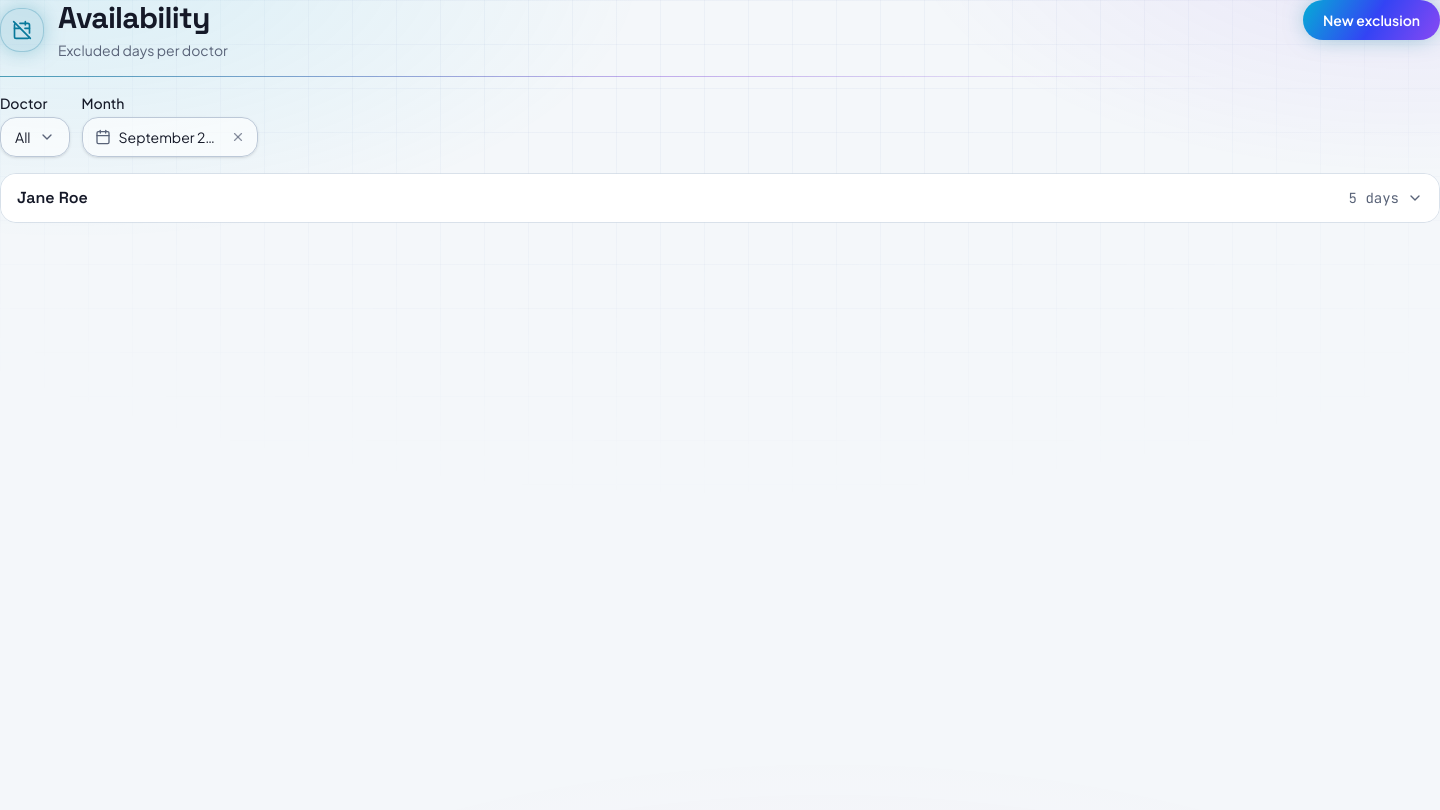
AvailabilityPage › keeps the dialog open with an inline error when the split fails
Click the button "Jane Roe 5 days".
click(52, 198)  # box x1=1 y1=174 x2=1439 y2=222
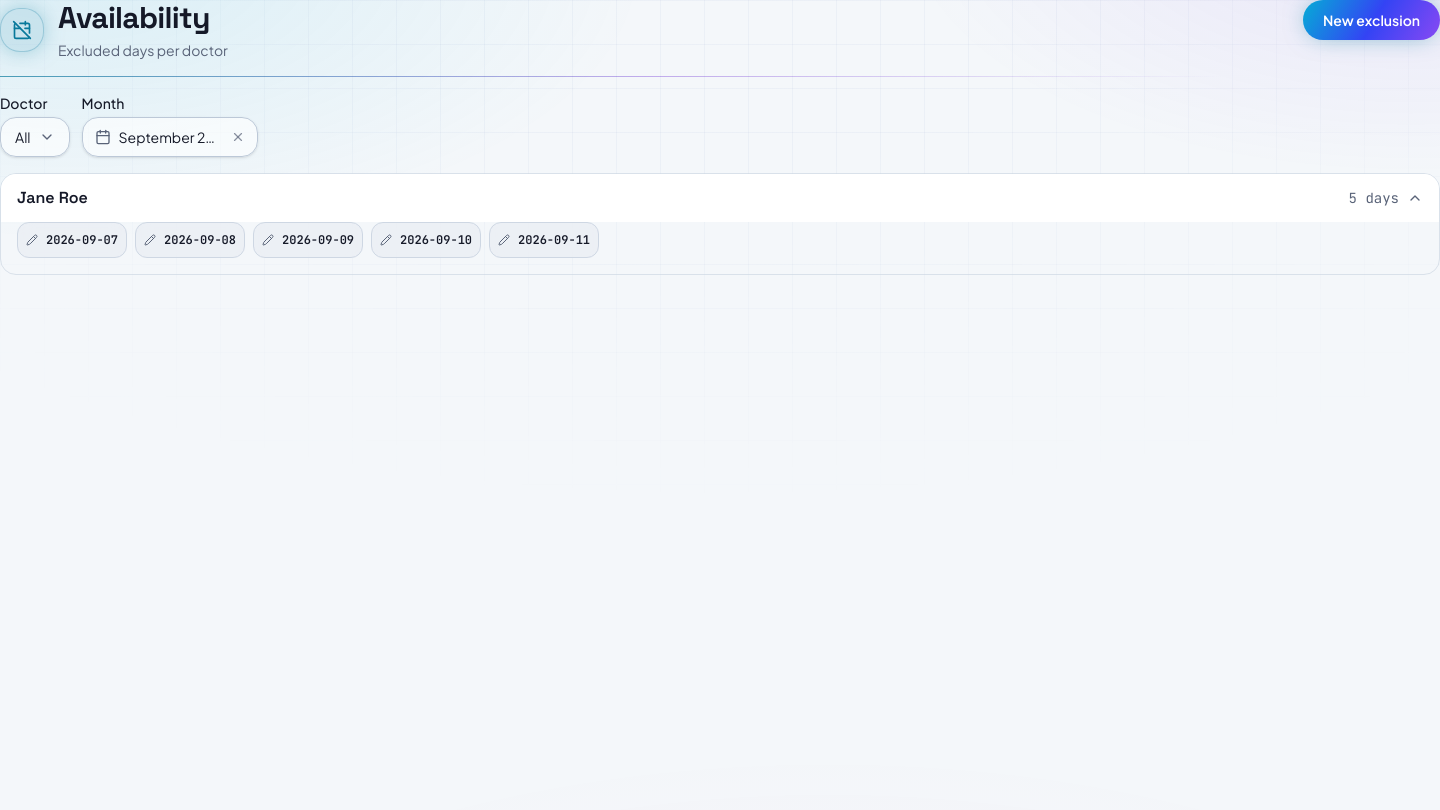
Click the button "2026-09-07".
click(72, 240)  # box x1=17 y1=222 x2=127 y2=258
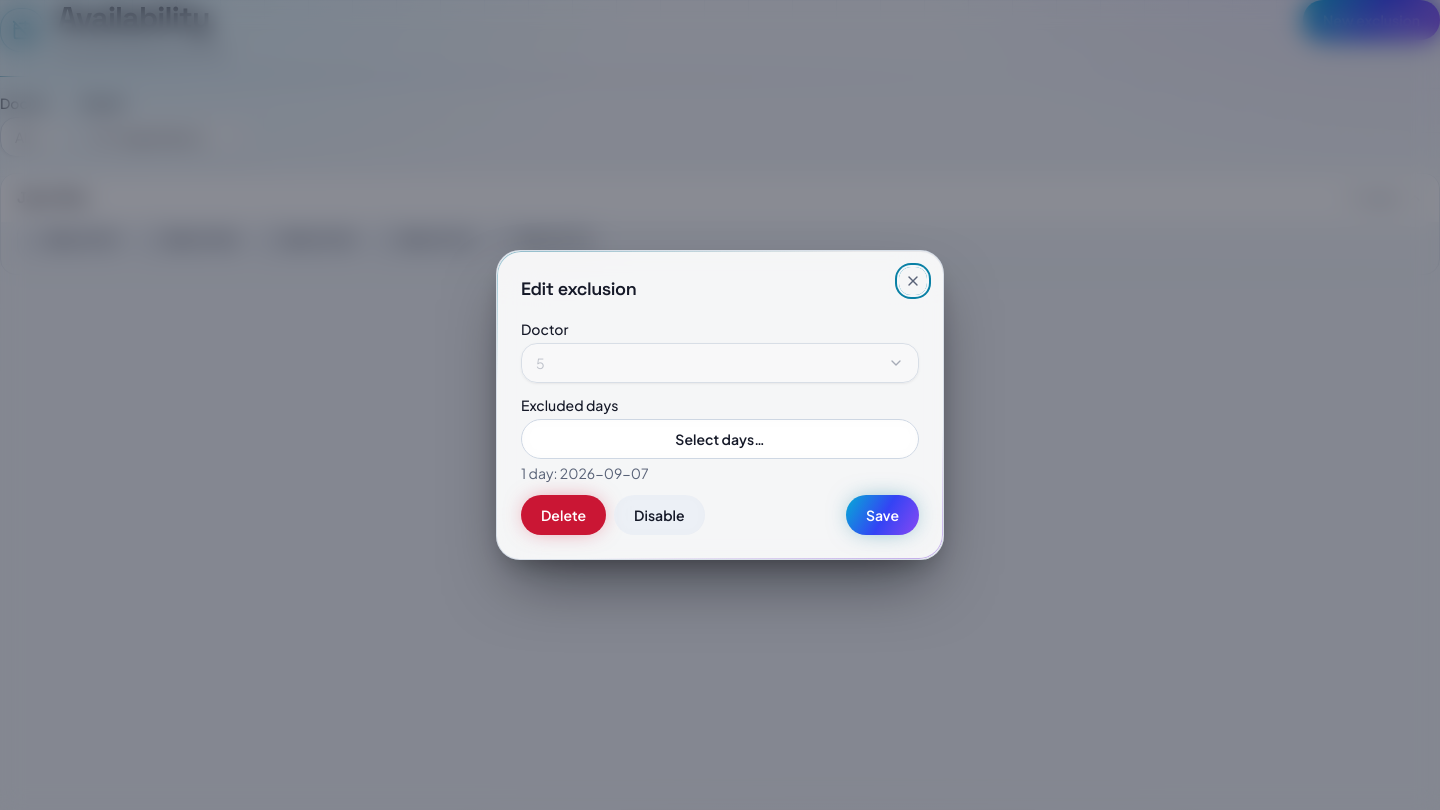
Click the button "Select days…".
click(720, 439)  # box x1=521 y1=419 x2=919 y2=459
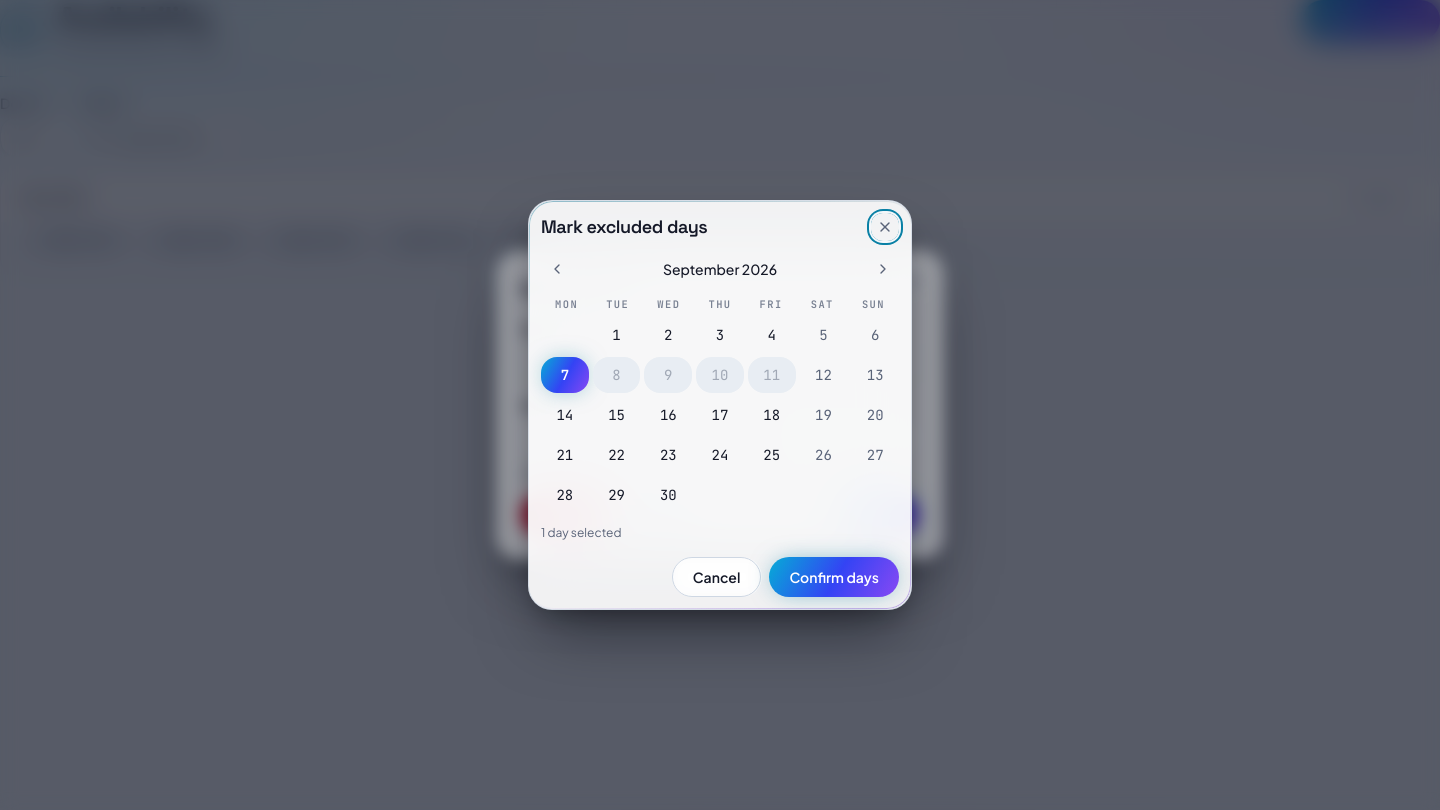
Click the button "7".
click(565, 375)  # box x1=541 y1=357 x2=589 y2=393
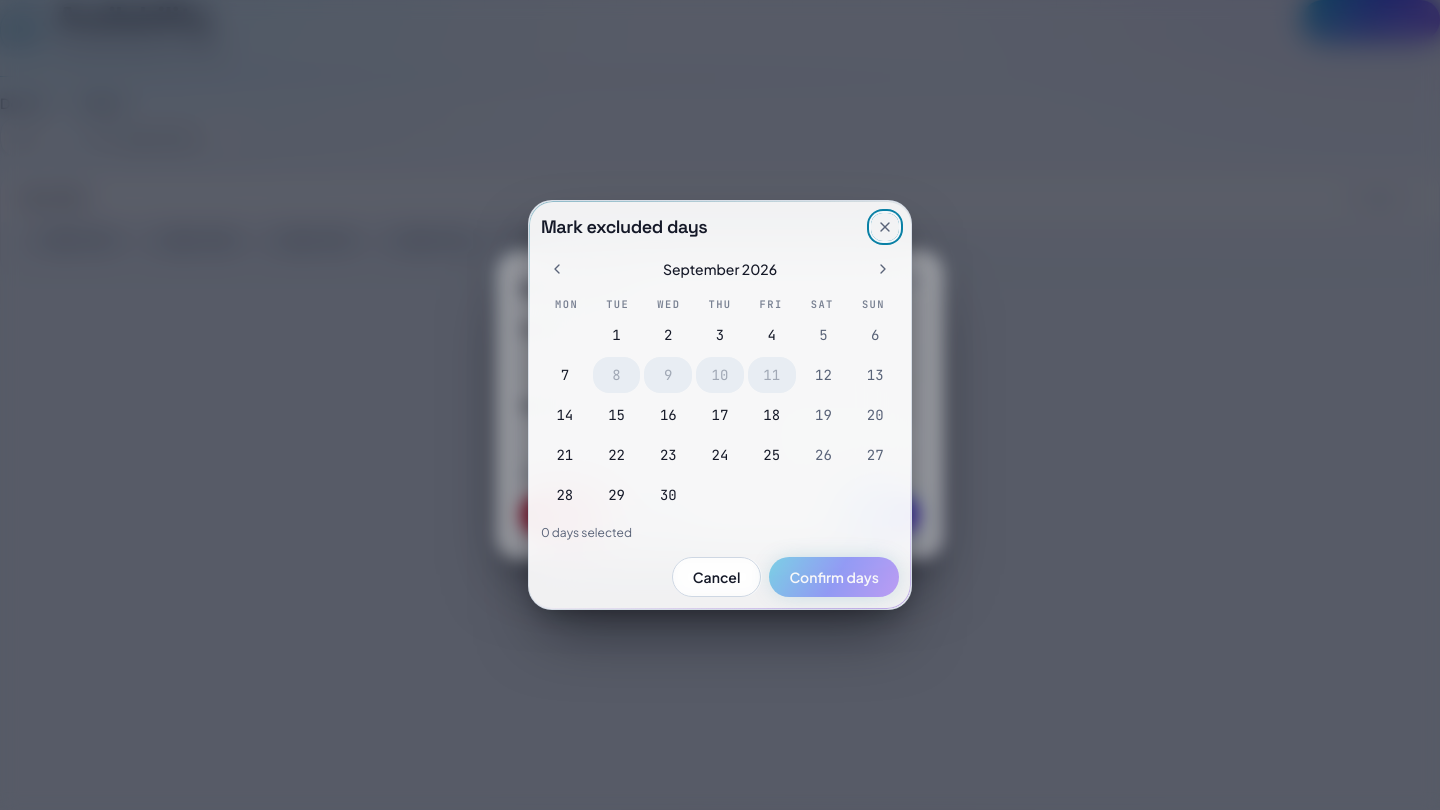
Click the button "Confirm days".
click(834, 577)  # box x1=769 y1=557 x2=899 y2=597
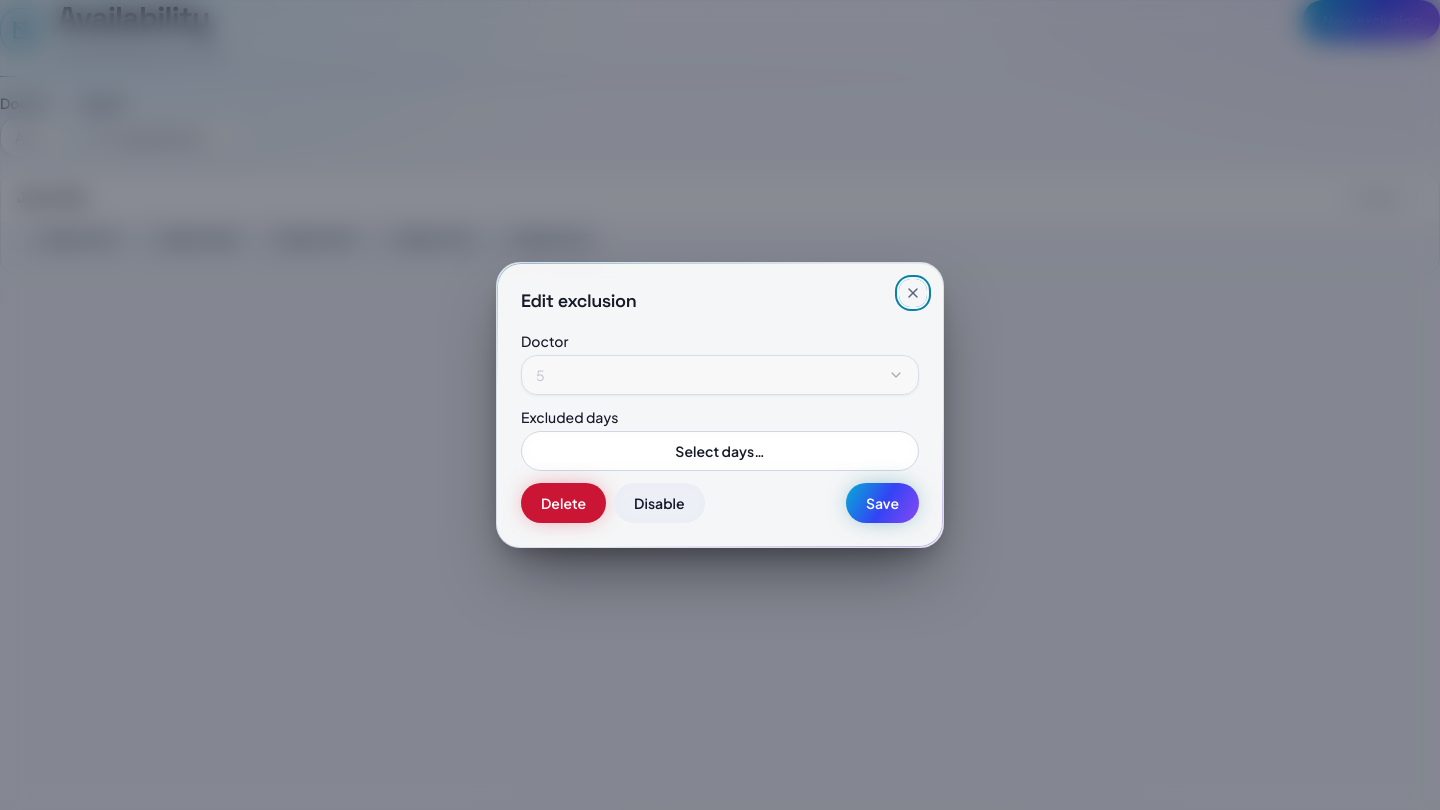
Click the button "Save".
click(882, 503)  # box x1=846 y1=483 x2=919 y2=523
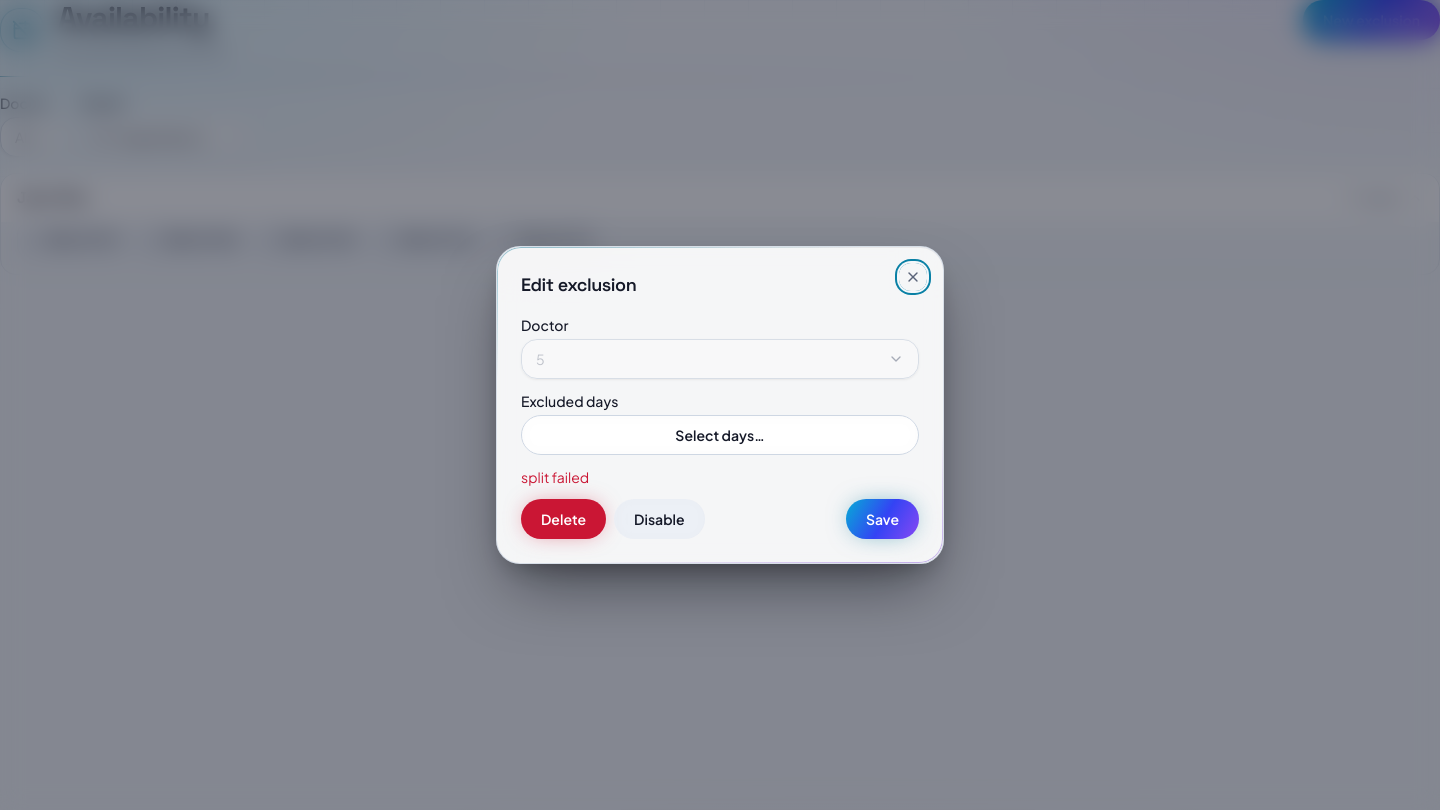
Expected: the button "Save" is shown, x1=846 y1=499 x2=919 y2=539
Expected: the message "split failed" is shown, x1=521 y1=468 x2=589 y2=486
